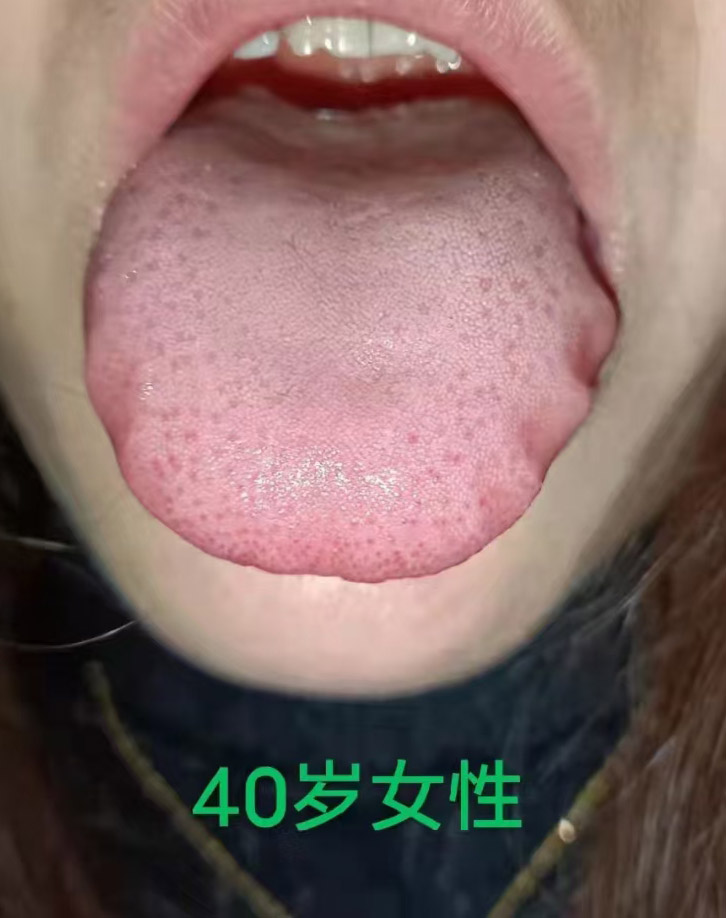baitaishe: (81, 84, 621, 583)
chihenshe: (552, 301, 622, 400)
hongdianshe: (404, 428, 419, 445), (475, 493, 487, 508), (197, 509, 209, 522)
shenquao: (181, 85, 515, 186)
